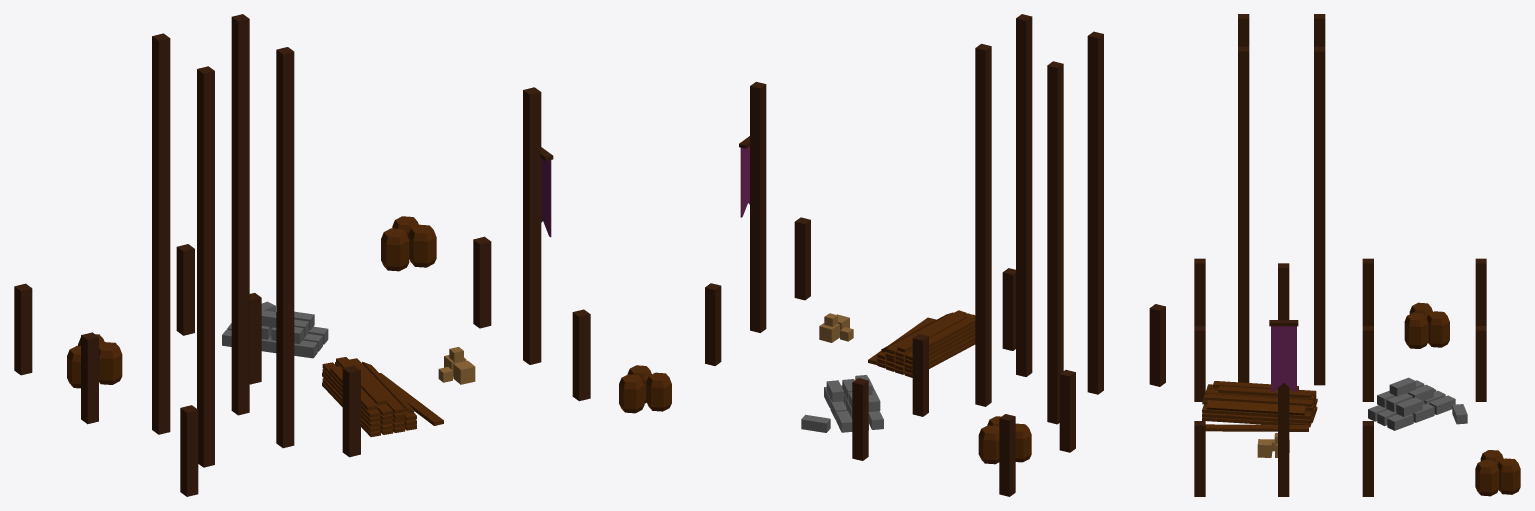
File: HospitalBuildPhase1v1.fbx
3 renders of one model, left to right at view 1: azimuth 30°, elevation 25°; view 2: azimuth 150°, elevation 25°; view 3: azimuth 270°, elevation 25°, orthographic. The views are drawn at different scales.
Parts seen in each view (by area): view 1: Cube.3608; view 2: Cube.3608; view 3: Cube.3608.
Part boxes in pixels (box(x1,y1,x2,y2)): Cube.3608: box(14, 14, 590, 496); Cube.3608: box(619, 14, 1165, 496); Cube.3608: box(1194, 14, 1520, 496).
Size of the model in its own units: 248 by 222 by 197.
